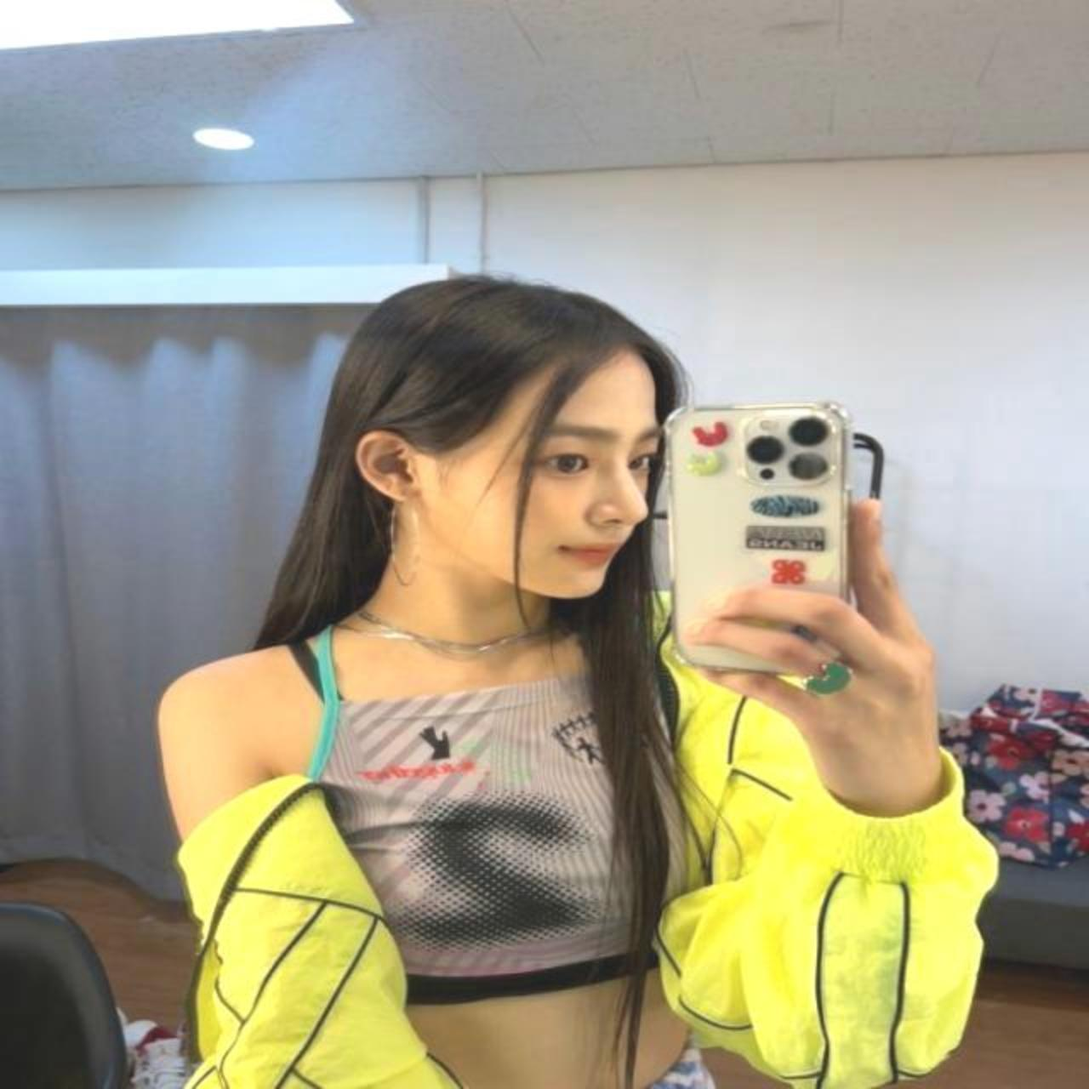phone: (662, 400, 864, 677)
